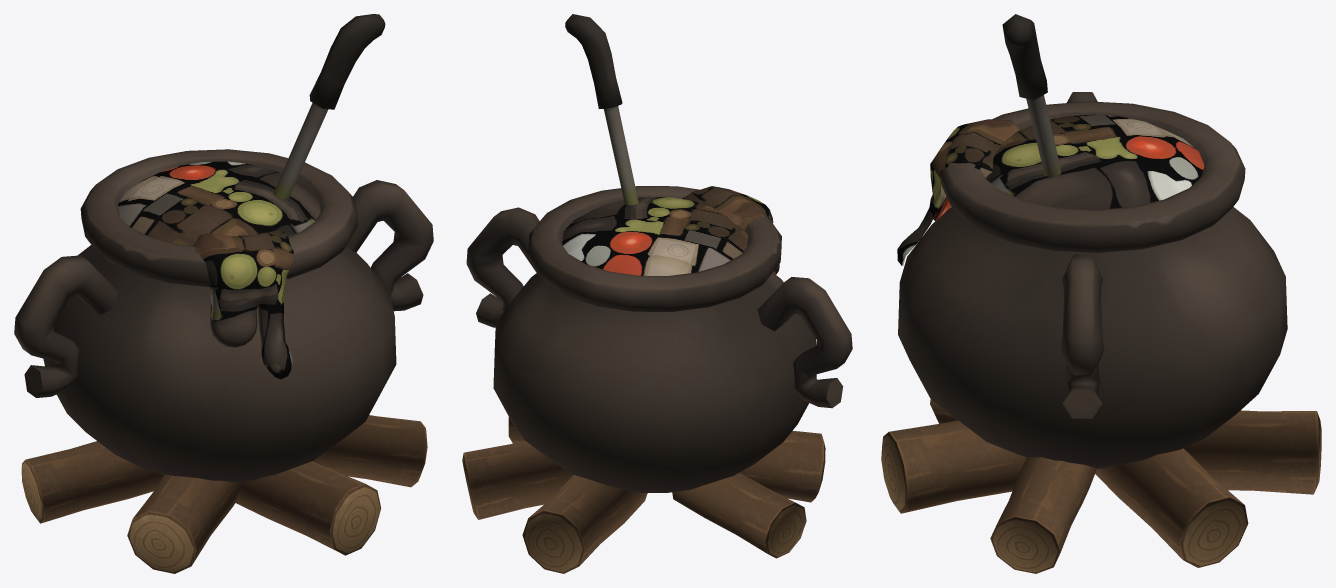
The model's file is Witchpot.fbx.
The picture shows the model from 3 angles, left to right: view 1: azimuth 30°, elevation 25°; view 2: azimuth 150°, elevation 25°; view 3: azimuth 270°, elevation 25°; orthographic projection. The views are drawn at different scales.
Visible parts, largest first — view 1: Wtchpot, Object001, Object002; view 2: Wtchpot, Object001, Object002; view 3: Wtchpot, Object001, Object002.
Boxes of the visible parts, box(x1,y1,x2,y2) form: Wtchpot: box(14, 14, 433, 573); Object001: box(118, 161, 320, 245); Object002: box(193, 230, 293, 379); Wtchpot: box(462, 14, 852, 573); Object001: box(562, 196, 748, 275); Object002: box(682, 186, 779, 274); Wtchpot: box(881, 14, 1321, 573); Object001: box(985, 114, 1204, 209); Object002: box(897, 119, 1020, 265).
Bounding box in the file's own units: 116 × 131 × 98.14.
